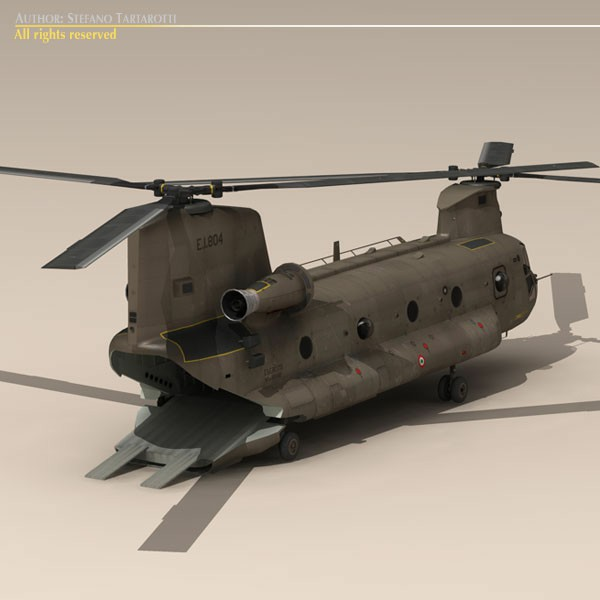chinook: (37, 140, 575, 489)
